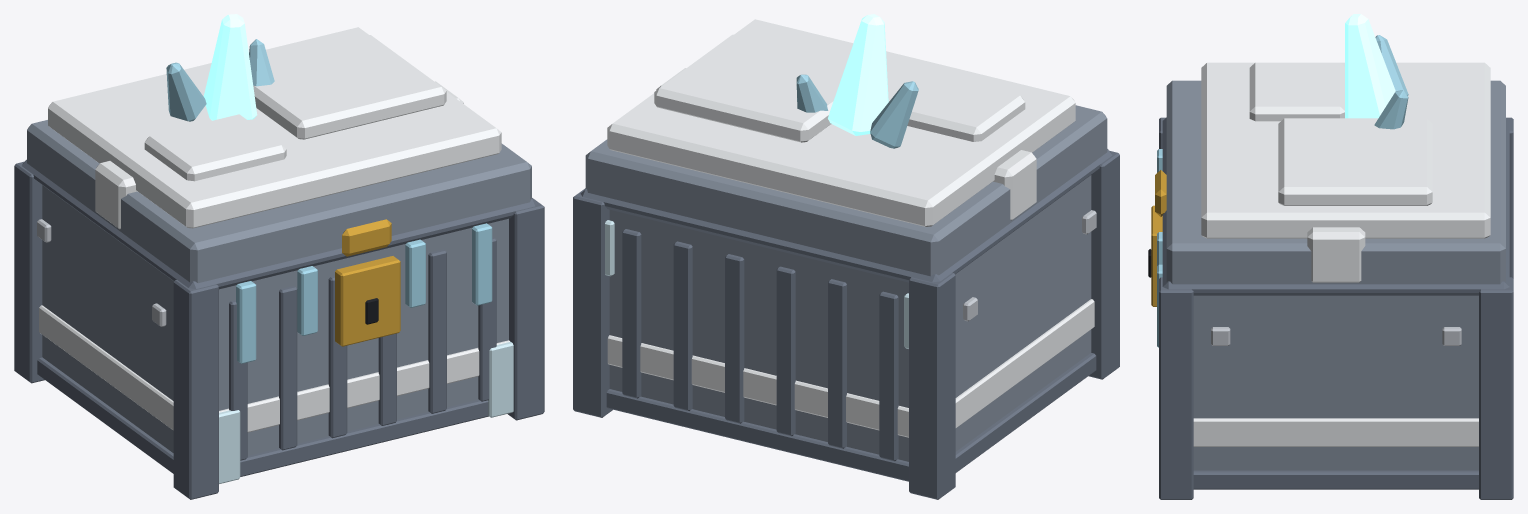
The model's file is myw_crate_zone4.glb.
3 renders of one model, left to right at view 1: azimuth 30°, elevation 25°; view 2: azimuth 150°, elevation 25°; view 3: azimuth 270°, elevation 25°, orthographic. The views are drawn at different scales.
Visible parts, largest first — view 1: Body, Lid; view 2: Body, Lid; view 3: Lid, Body.
Part boxes in pixels (<box>): Body: <box>14,161,544,499</box>; Lid: <box>22,14,536,289</box>; Body: <box>573,150,1119,499</box>; Lid: <box>580,14,1112,282</box>; Lid: <box>1155,14,1509,295</box>; Body: <box>1148,117,1513,499</box>.
Size of the model in its own units: 2.18 by 2.18 by 1.89.
